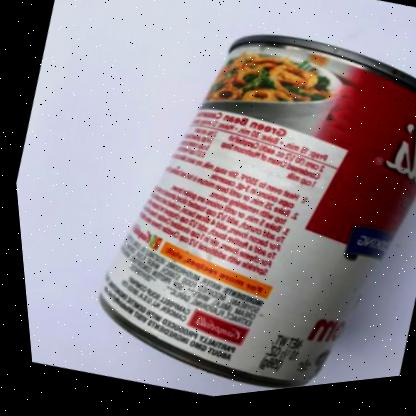Metal: (92, 40, 416, 394)
